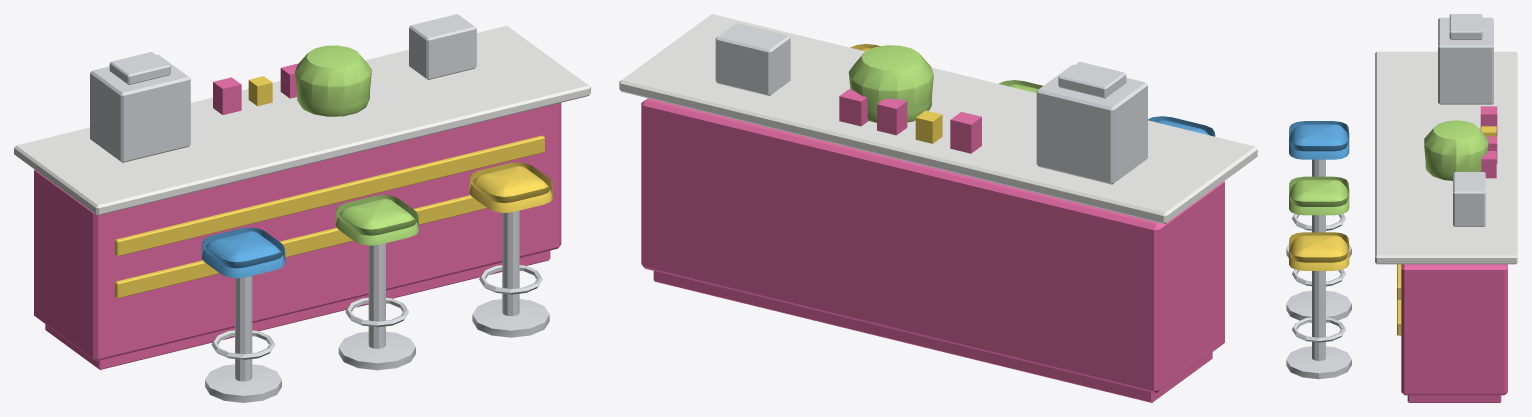
File: trampoline-park-and-soft-play-cafe-counter-with-stools-ebd55325__34644.glb
3 renders of one model, left to right at view 1: azimuth 30°, elevation 25°; view 2: azimuth 150°, elevation 25°; view 3: azimuth 270°, elevation 25°, orthographic. The views are drawn at different scales.
Visible parts, largest first — view 1: cafe-counter-with-stools; view 2: cafe-counter-with-stools; view 3: cafe-counter-with-stools.
Boxes of the visible parts, left/top/right/bottom form: cafe-counter-with-stools: left=14, top=14, right=590, bottom=402; cafe-counter-with-stools: left=619, top=14, right=1257, bottom=402; cafe-counter-with-stools: left=1286, top=14, right=1517, bottom=402.
Bounding box in the file's own units: 2.96 × 1.51 × 1.41.
